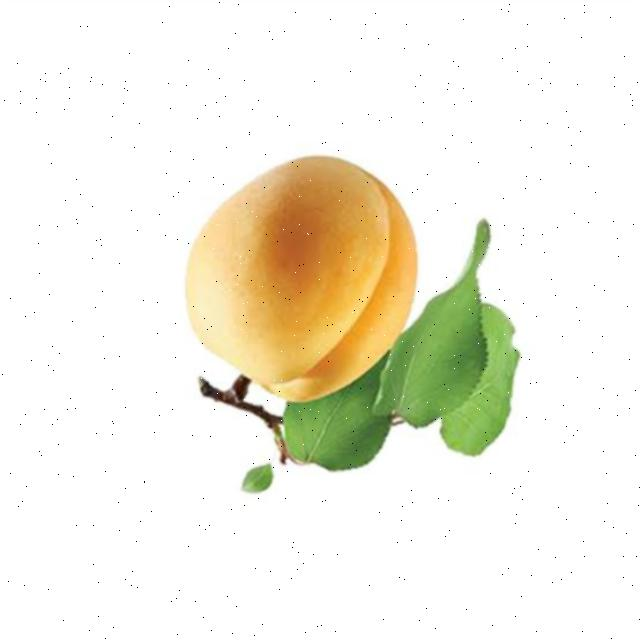kayisi: (185, 148, 429, 402)
kayisi yapragi: (368, 216, 514, 434), (442, 287, 534, 460), (282, 348, 402, 466), (237, 458, 280, 504)
